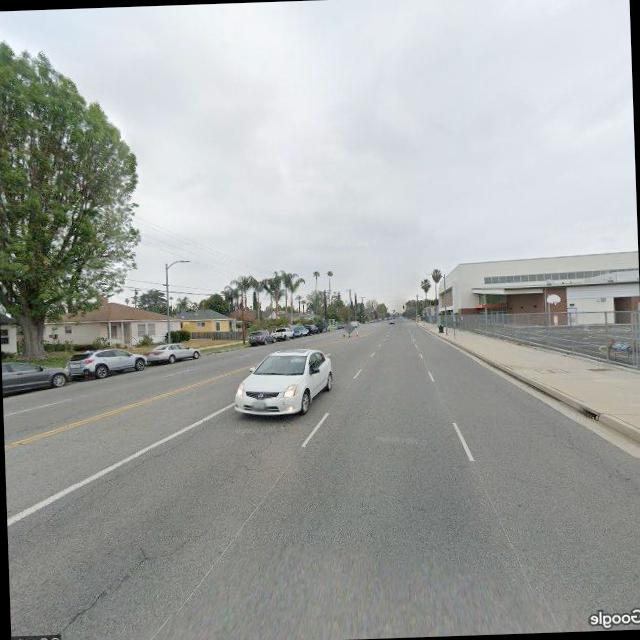pothole: (26, 414, 221, 528), (55, 549, 154, 632)
